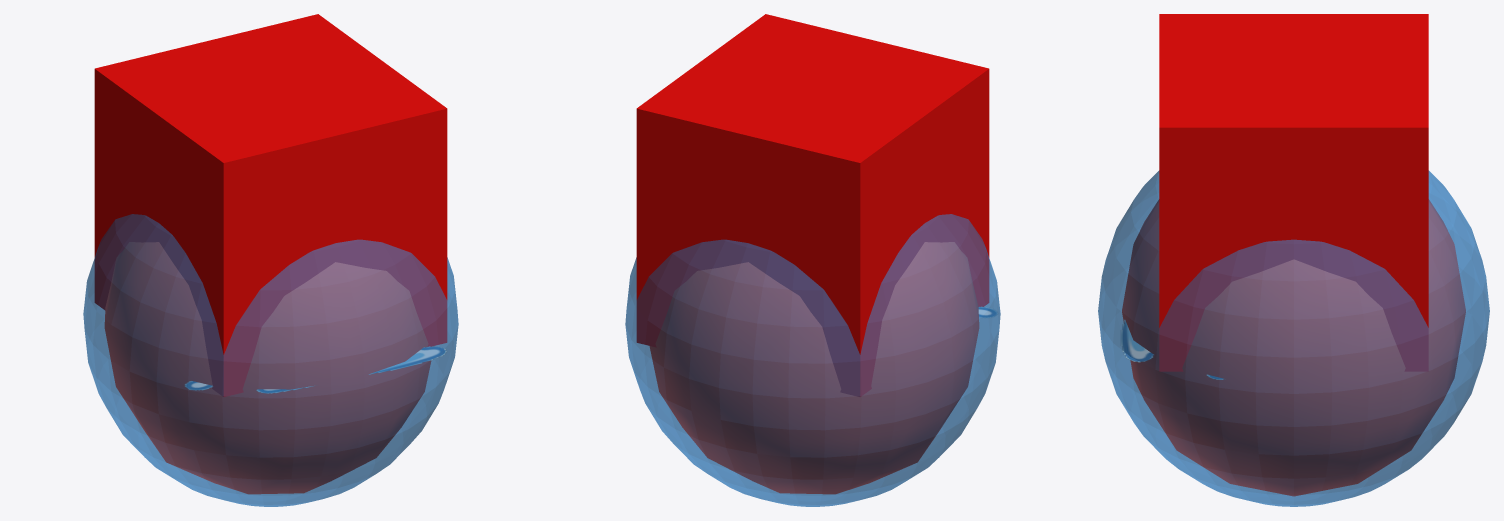
The picture shows the model from 3 angles, left to right: view 1: azimuth 30°, elevation 25°; view 2: azimuth 150°, elevation 25°; view 3: azimuth 270°, elevation 25°; orthographic projection. The views are drawn at different scales.
Parts seen in each view (by area): view 1: ProjectileLauncher, ImpactTemplate, ProjectileTemplate, WaterSplashSprite; view 2: ProjectileLauncher, ImpactTemplate, ProjectileTemplate; view 3: ImpactTemplate, ProjectileLauncher, ProjectileTemplate, WaterSplashSprite.
Boxes of the visible parts, box(x1,y1,x2,y2) form: ProjectileLauncher: box(94, 14, 447, 396); ImpactTemplate: box(83, 214, 458, 506); ProjectileTemplate: box(104, 242, 433, 494); WaterSplashSprite: box(185, 346, 446, 393); ProjectileLauncher: box(636, 14, 989, 396); ImpactTemplate: box(625, 214, 1000, 506); ProjectileTemplate: box(649, 242, 979, 494); ImpactTemplate: box(1098, 170, 1489, 506); ProjectileLauncher: box(1159, 14, 1428, 371); ProjectileTemplate: box(1122, 199, 1465, 496); WaterSplashSprite: box(1121, 320, 1223, 379).
Size of the model in its own units: 0.4 by 0.4707 by 0.4.
Materials: 5 (1 with a texture image).
